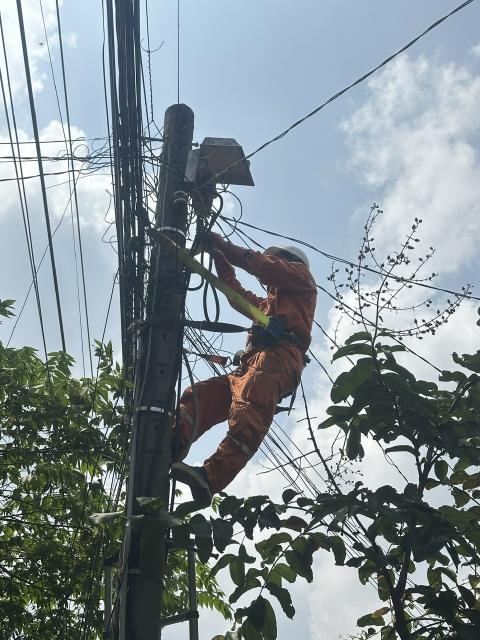gloves: (196, 226, 242, 276)
harness: (237, 286, 308, 357)
helmet: (255, 242, 322, 272)
shoes: (169, 450, 222, 507)
